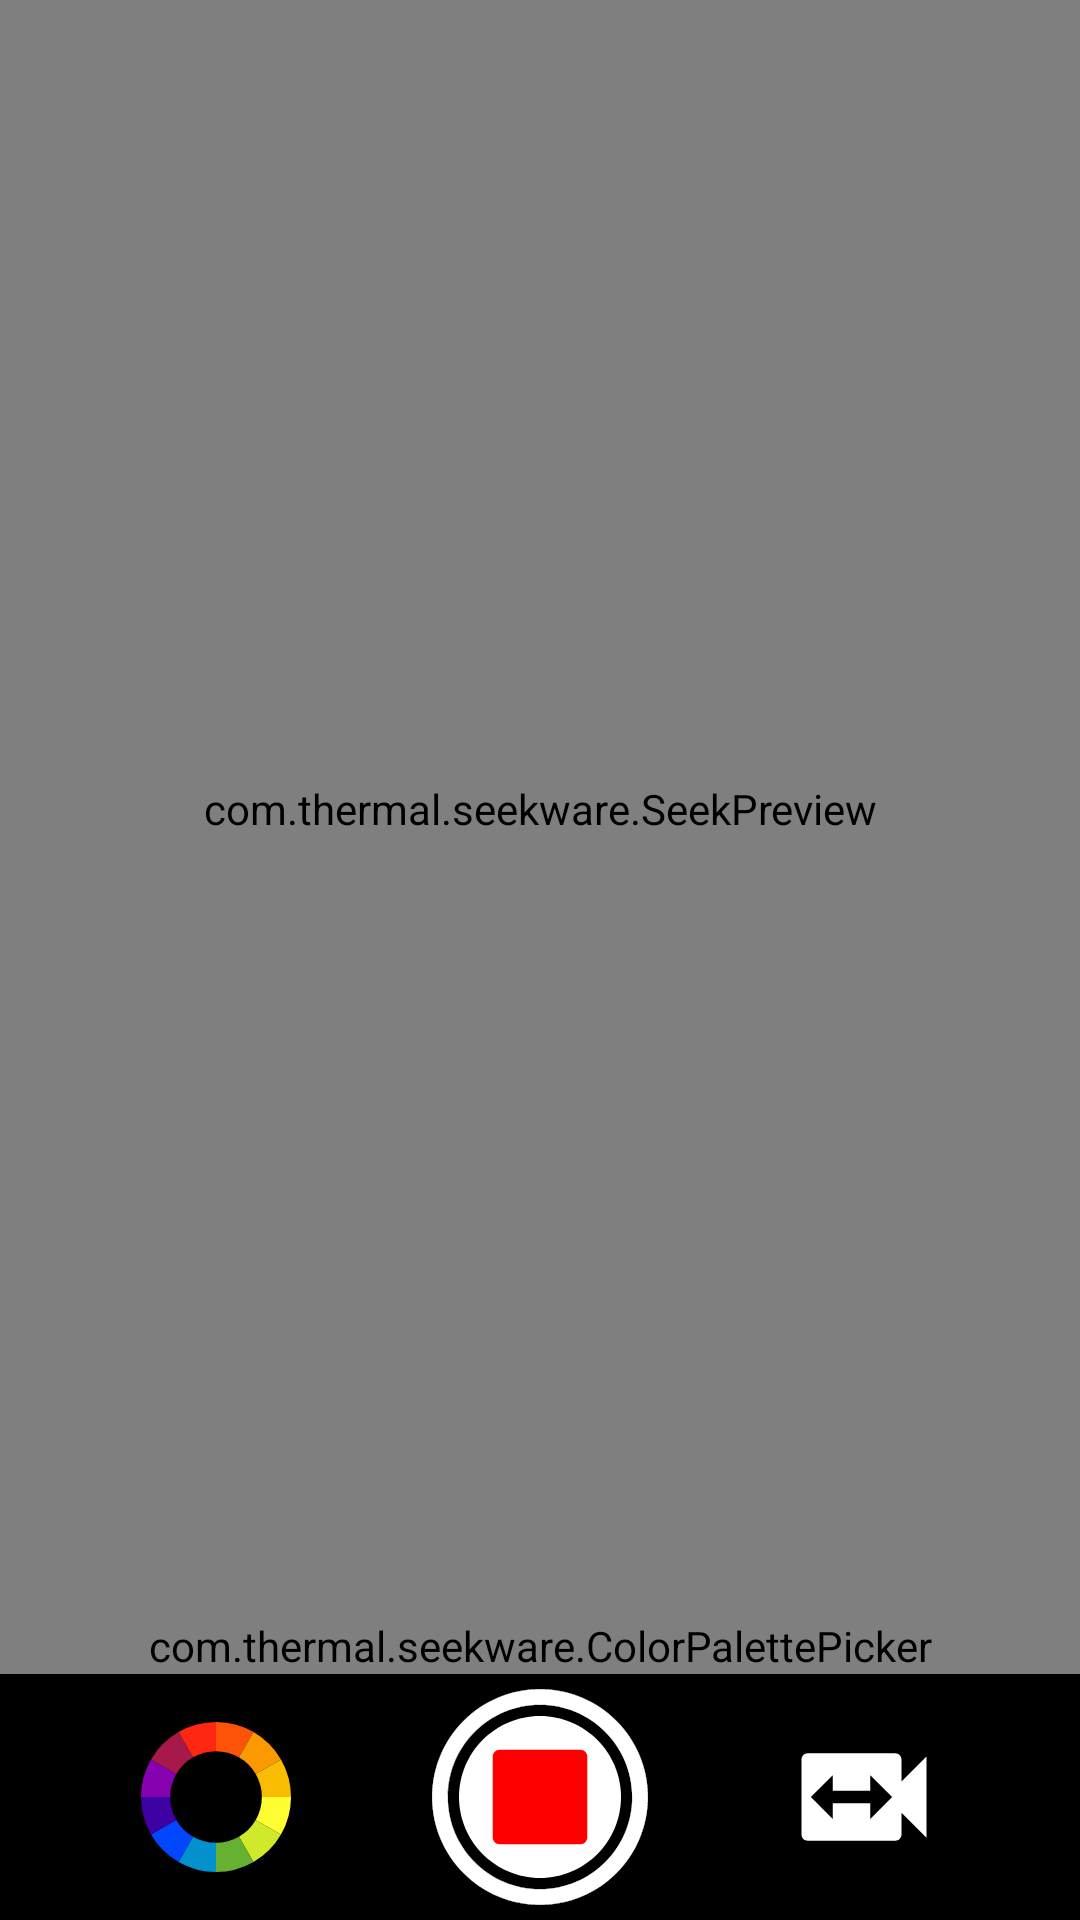

Where to tap for icons on this 1080*1920 app screen, as point (x, y):
wheel: point (216, 1797)
